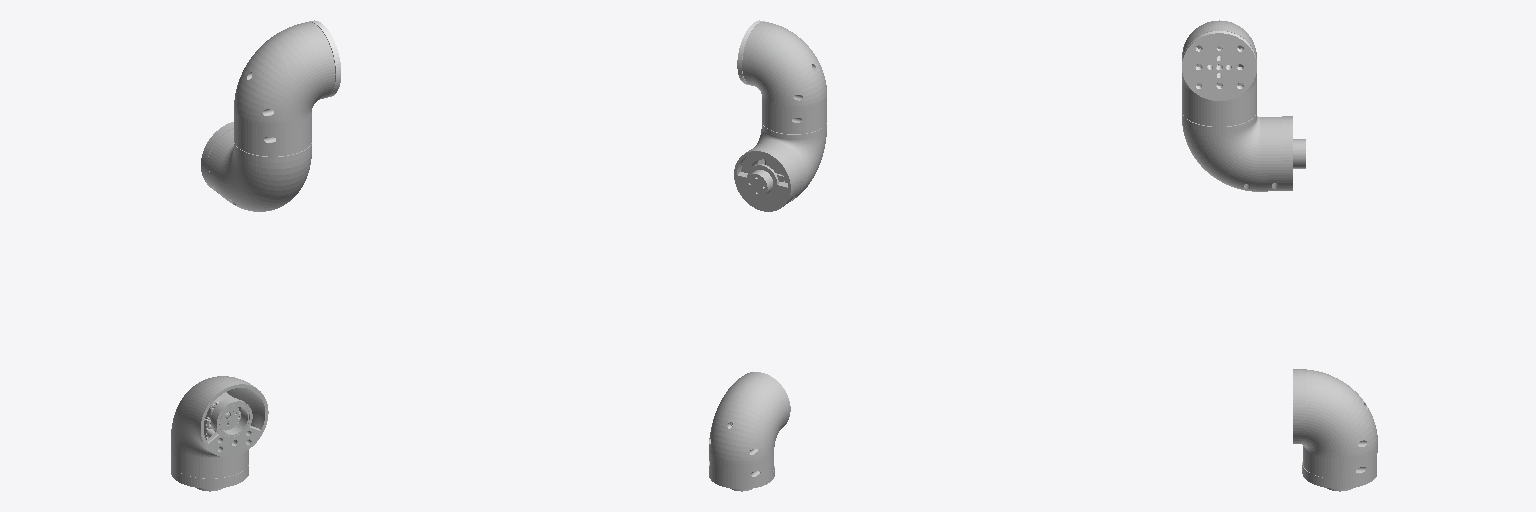
URDF robot description (wormy-arm):
<robot name="wormy-arm">
    <link name="base_link"></link>
    <joint name="base_link_to_base" type="fixed">
        <parent link="base_link" />
        <child link="joint_0" />
        <origin rpy="0.0 0 0" xyz="0 0 0" />
    </joint>
    <link name="joint_0">
        <visual>
            <origin xyz="0 0 0" rpy="0 -0 0" />
            <geometry>
                <mesh filename="package://wormy_arm_description/urdf/raw/joint_0_visual.stl" />
            </geometry>
            <material name="joint_0_material">
                <color rgba="0.817881 0.836208 0.852695 1.0" />
            </material>
        </visual>
        <collision>
            <origin xyz="0 0 0" rpy="0 -0 0" />
            <geometry>
                <mesh filename="package://wormy_arm_description/urdf/raw/joint_0_collision.stl" />
            </geometry>
            <material name="joint_0_material">
                <color rgba="0.5 0.5 0.5 1.0" />
            </material>
        </collision>
        <inertial>
            <origin xyz="0.0059763 0.0125469 0.0329924" rpy="0 0 0" />
            <mass value="0.329343" />
            <inertia ixx="0.000437093" ixy="-2.32247e-05" ixz="4.16777e-05" iyy="0.000408938"
                iyz="-9.64991e-06" izz="0.000369942" />
        </inertial>
    </link>

    <link name="base">
        <inertial>
            <origin xyz="0 0 0" rpy="0 0 0" />
            <mass value="1e-9" />
            <inertia ixx="0" ixy="0" ixz="0" iyy="0" iyz="0" izz="0" />
        </inertial>
    </link>
    <joint name="base_frame" type="fixed">
        <origin xyz="-1.0842e-19 0 0.001" rpy="0 2.48301e-63 -3.46945e-17" />
        <parent link="joint_0" />
        <child link="base" />
        <axis xyz="0 0 0" />
    </joint>

    <link name="joint_1">
        <visual>
            <origin xyz="0 0 0" rpy="0 -0 0" />
            <geometry>
                <mesh filename="package://wormy_arm_description/urdf/raw/joint_1_visual.stl" />
            </geometry>
            <material name="joint_1_material">
                <color rgba="0.799704 0.80046 0.803592 1.0" />
            </material>
        </visual>
        <collision>
            <origin xyz="0 0 0" rpy="0 -0 0" />
            <geometry>
                <mesh filename="package://wormy_arm_description/urdf/raw/joint_1_collision.stl" />
            </geometry>
            <material name="joint_1_material">
                <color rgba="0.5 0.5 0.5 1.0" />
            </material>
        </collision>
        <inertial>
            <origin xyz="1.21246e-05 -0.00651843 -0.0502915" rpy="0 0 0" />
            <mass value="0.192291" />
            <inertia ixx="0.000177516" ixy="1.6057e-08" ixz="7.72555e-09" iyy="0.000164493"
                iyz="-3.22981e-05" izz="0.000113033" />
        </inertial>
    </link>

    <link name="joint_2">
        <visual>
            <origin xyz="0 0 0" rpy="0 -0 0" />
            <geometry>
                <mesh filename="package://wormy_arm_description/urdf/raw/joint_2_visual.stl" />
            </geometry>
            <material name="joint_2_material">
                <color rgba="0.853971 0.854912 0.858811 1.0" />
            </material>
        </visual>
        <collision>
            <origin xyz="0 0 0" rpy="0 -0 0" />
            <geometry>
                <mesh filename="package://wormy_arm_description/urdf/raw/joint_2_collision.stl" />
            </geometry>
            <material name="joint_2_material">
                <color rgba="0.5 0.5 0.5 1.0" />
            </material>
        </collision>
        <inertial>
            <origin xyz="2.09617e-05 -0.0657069 -0.0594829" rpy="0 0 0" />
            <mass value="0.370781" />
            <inertia ixx="0.00124541" ixy="7.56741e-08" ixz="-2.32197e-08" iyy="0.000331076"
                iyz="-0.000163069" izz="0.00114896" />
        </inertial>
    </link>

    <link name="joint_3">
        <visual>
            <origin xyz="0 0 0" rpy="0 -0 0" />
            <geometry>
                <mesh filename="package://wormy_arm_description/urdf/raw/joint_3_visual.stl" />
            </geometry>
            <material name="joint_3_material">
                <color rgba="0.844127 0.845213 0.849714 1.0" />
            </material>
        </visual>
        <collision>
            <origin xyz="0 0 0" rpy="0 -0 0" />
            <geometry>
                <mesh filename="package://wormy_arm_description/urdf/raw/joint_3_collision.stl" />
            </geometry>
            <material name="joint_3_material">
                <color rgba="0.5 0.5 0.5 1.0" />
            </material>
        </collision>
        <inertial>
            <origin xyz="1.5072e-05 -0.0502234 -0.0574874" rpy="0 0 0" />
            <mass value="0.321132" />
            <inertia ixx="0.00078854" ixy="5.93035e-08" ixz="-7.35249e-10" iyy="0.000288245"
                iyz="-0.000126739" izz="0.000700904" />
        </inertial>
    </link>

    <link name="joint_4">
        <visual>
            <origin xyz="0 0 0" rpy="0 -0 0" />
            <geometry>
                <mesh filename="package://wormy_arm_description/urdf/raw/joint_4_visual.stl" />
            </geometry>
            <material name="joint_4_material">
                <color rgba="0.799704 0.80046 0.803592 1.0" />
            </material>
        </visual>
        <collision>
            <origin xyz="0 0 0" rpy="0 -0 0" />
            <geometry>
                <mesh filename="package://wormy_arm_description/urdf/raw/joint_4_collision.stl" />
            </geometry>
            <material name="joint_4_material">
                <color rgba="0.5 0.5 0.5 1.0" />
            </material>
        </collision>
        <inertial>
            <origin xyz="1.21246e-05 -0.00651843 -0.0502915" rpy="0 0 0" />
            <mass value="0.192291" />
            <inertia ixx="0.000177516" ixy="1.6057e-08" ixz="7.72555e-09" iyy="0.000164493"
                iyz="-3.22981e-05" izz="0.000113033" />
        </inertial>
    </link>

    <link name="joint_5">
        <visual>
            <origin xyz="0 0 0" rpy="0 -0 0" />
            <geometry>
                <mesh filename="package://wormy_arm_description/urdf/raw/joint_5_visual.stl" />
            </geometry>
            <material name="joint_5_material">
                <color rgba="0.799704 0.80046 0.803592 1.0" />
            </material>
        </visual>
        <collision>
            <origin xyz="0 0 0" rpy="0 -0 0" />
            <geometry>
                <mesh filename="package://wormy_arm_description/urdf/raw/joint_5_collision.stl" />
            </geometry>
            <material name="joint_5_material">
                <color rgba="0.5 0.5 0.5 1.0" />
            </material>
        </collision>
        <inertial>
            <origin xyz="1.21246e-05 -0.00691252 -0.0502915" rpy="0 0 0" />
            <mass value="0.192291" />
            <inertia ixx="0.000178174" ixy="1.63035e-08" ixz="7.72555e-09" iyy="0.000164493"
                iyz="-3.29513e-05" izz="0.00011369" />
        </inertial>
    </link>

    <link name="joint_connector_a2">
        <visual>
            <origin xyz="0 0 0" rpy="0 -0 0" />
            <geometry>
                <mesh filename="package://wormy_arm_description/urdf/raw/joint_connector_a2_visual.stl" />
            </geometry>
            <material name="joint_connector_a2_material">
                <color rgba="0.917647 0.917647 0.917647 1.0" />
            </material>
        </visual>
        <collision>
            <origin xyz="0 0 0" rpy="0 -0 0" />
            <geometry>
                <mesh filename="package://wormy_arm_description/urdf/raw/joint_connector_a2_collision.stl" />
            </geometry>
            <material name="joint_connector_a2_material">
                <color rgba="0.5 0.5 0.5 1.0" />
            </material>
        </collision>
        <inertial>
            <origin xyz="1.14754e-18 5.6599e-06 -0.0118831" rpy="0 0 0" />
            <mass value="0.0234539" />
            <inertia ixx="5.31243e-06" ixy="-2.09537e-36" ixz="-2.05025e-10" iyy="5.31245e-06"
                iyz="2.85876e-10" izz="9.79132e-06" />
        </inertial>
    </link>

    <joint name="joint_5" type="revolute">
        <origin xyz="-2.77556e-17 -0.02937 -0.074" rpy="-1.5708 -1.5708 0" />
        <parent link="joint_5" />
        <child link="joint_connector_a2" />
        <axis xyz="0 0 1" />
        <limit lower="-3.14" upper="3.14" effort="1.5" velocity="3.14"/>
        <joint_properties friction="0.0" />
    </joint>

    <joint name="joint_4" type="revolute">
        <origin xyz="-7.49184e-17 -0.02887 -0.074" rpy="-1.5708 1.5708 0" />
        <parent link="joint_4" />
        <child link="joint_5" />
        <axis xyz="0 0 1" />
        <limit lower="-3.14" upper="3.14" effort="1.5" velocity="3.14"/>
        <joint_properties friction="0.0" />
    </joint>

    <joint name="joint_3" type="revolute">
        <origin xyz="-1.97569e-16 -0.10387 -0.04483" rpy="3.14159 -1.43376e-15 -3.14159" />
        <parent link="joint_3" />
        <child link="joint_4" />
        <axis xyz="0 0 1" />
        <limit lower="-3.14" upper="3.14" effort="1.5" velocity="3.14"/>
        <joint_properties friction="0.0" />
    </joint>

    <joint name="joint_2" type="revolute">
        <origin xyz="5.37764e-17 -0.13387 -0.04463" rpy="-3.14159 -2.16934e-16 3.14159" />
        <parent link="joint_2" />
        <child link="joint_3" />
        <axis xyz="0 0 1" />
        <limit lower="-3.14" upper="3.14" effort="1.5" velocity="3.14"/>
        <joint_properties friction="0.0" />
    </joint>

    <joint name="joint_1" type="revolute">
        <origin xyz="2.36085e-16 -0.02887 -0.074" rpy="1.5708 -1.0842e-19 3.14159" />
        <parent link="joint_1" />
        <child link="joint_2" />
        <axis xyz="0 0 1" />
        <limit lower="-3.14" upper="3.14" effort="1.5" velocity="3.14"/>
        <joint_properties friction="0.0" />
    </joint>

    <joint name="joint_0" type="revolute">
        <origin xyz="-0.00020294 0.000945844 0.08702" rpy="-3.14159 -4.31408e-32 -3.14159" />
        <parent link="joint_0" />
        <child link="joint_1" />
        <axis xyz="0 0 1" />
        <limit lower="-3.14" upper="3.14" effort="1.5" velocity="3.14"/>
        <joint_properties friction="0.0" />
    </joint>


</robot>

--- Facts derived from the render (not from the file) ---
The picture shows the robot from 3 angles, left to right: view 1: azimuth 30°, elevation 25°; view 2: azimuth 150°, elevation 25°; view 3: azimuth 270°, elevation 25°; orthographic projection.
Model wormy-arm with 9 links and 8 joints (6 revolute, 2 fixed), rooted at base_link, posed every joint at zero.
Visible links, largest first — view 1: joint_5, joint_1, joint_4; view 2: joint_1, joint_5, joint_4; view 3: joint_1, joint_4, joint_connector_a2, joint_5.
Boxes of the visible links, left/top/right/bottom form: joint_5: left=234, top=22, right=335, bottom=156; joint_1: left=171, top=376, right=268, bottom=491; joint_4: left=201, top=122, right=311, bottom=211; joint_1: left=709, top=372, right=790, bottom=491; joint_5: left=742, top=22, right=826, bottom=133; joint_4: left=734, top=123, right=826, bottom=211; joint_1: left=1293, top=369, right=1377, bottom=491; joint_4: left=1182, top=114, right=1305, bottom=191; joint_connector_a2: left=1182, top=31, right=1256, bottom=100; joint_5: left=1182, top=20, right=1256, bottom=126.
Bounding box of the posed robot: 0.0779 × 0.1672 × 0.4466 m (x, y, z).
Meshes: 7 distinct files referenced, 4 mesh visuals loaded (4 binary STL); not drawn: 3 (reference not matched to a file when rendering).